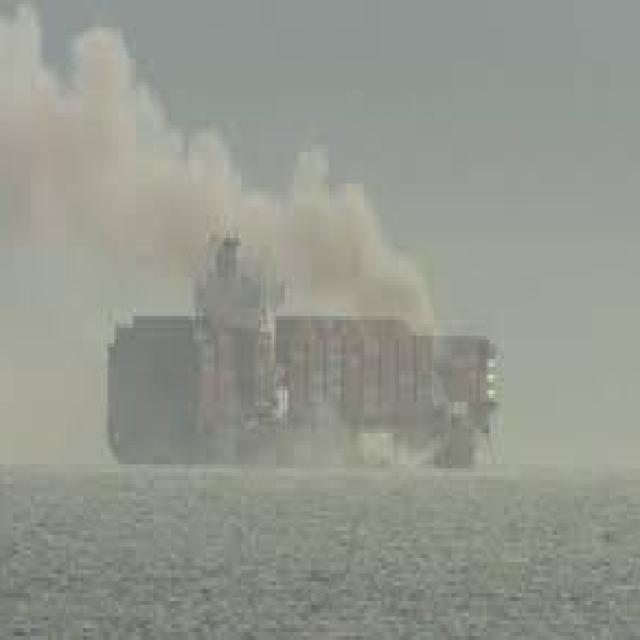cargoship: (105, 218, 508, 475)
